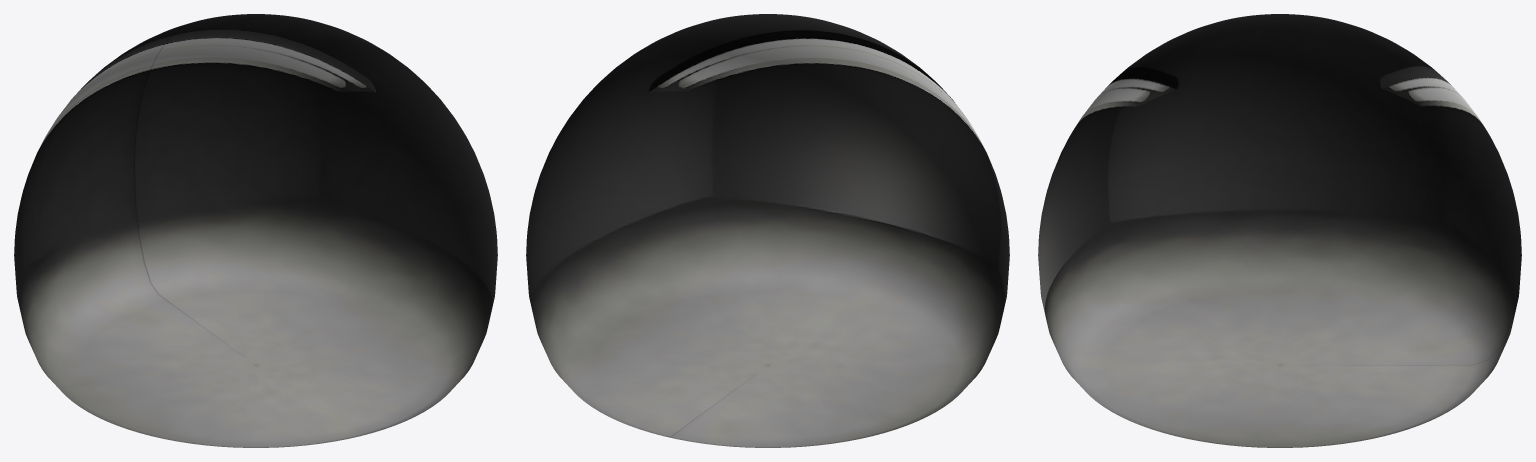
File: room.glb
The picture shows the model from 3 angles, left to right: view 1: azimuth 30°, elevation 25°; view 2: azimuth 150°, elevation 25°; view 3: azimuth 270°, elevation 25°; orthographic projection.
Parts seen in each view (by area): view 1: Mesh_0; view 2: Mesh_0; view 3: Mesh_0.
Boxes of the visible parts, bbox=[...] form: Mesh_0: bbox=[14, 14, 497, 447]; Mesh_0: bbox=[526, 14, 1009, 447]; Mesh_0: bbox=[1038, 14, 1521, 447].
Bounding box in the file's own units: 2 × 1.5 × 2.
1 material, 1 textured.
